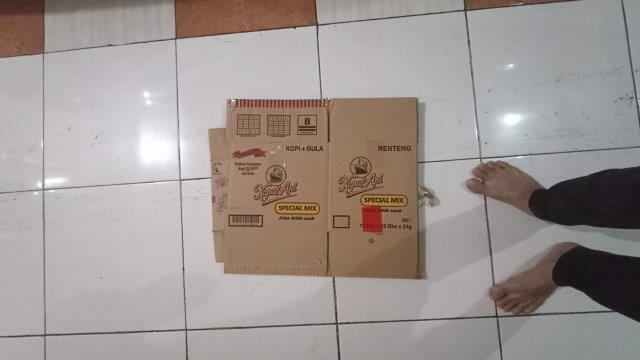kardus: (210, 100, 420, 278)
